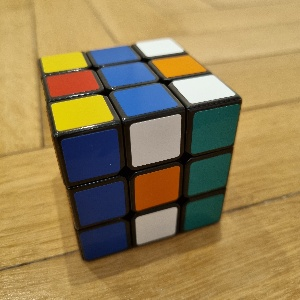cube: (38, 37, 243, 263)
